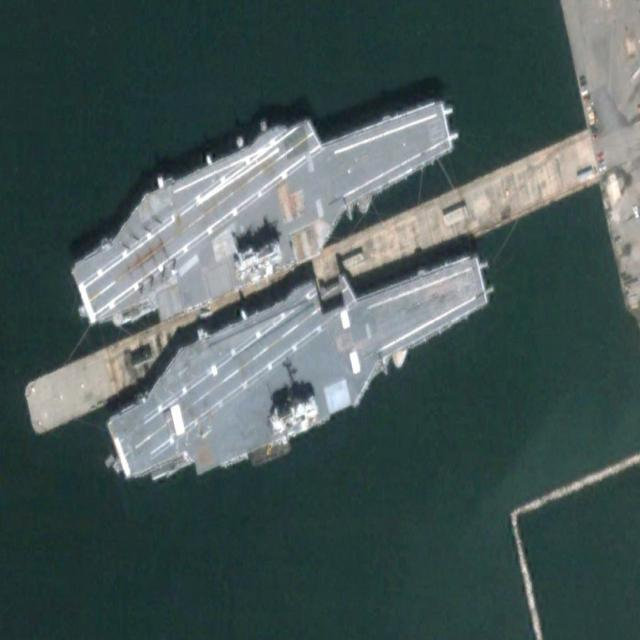Aircraft Carrier: (58, 52, 470, 358), (96, 209, 506, 507)
